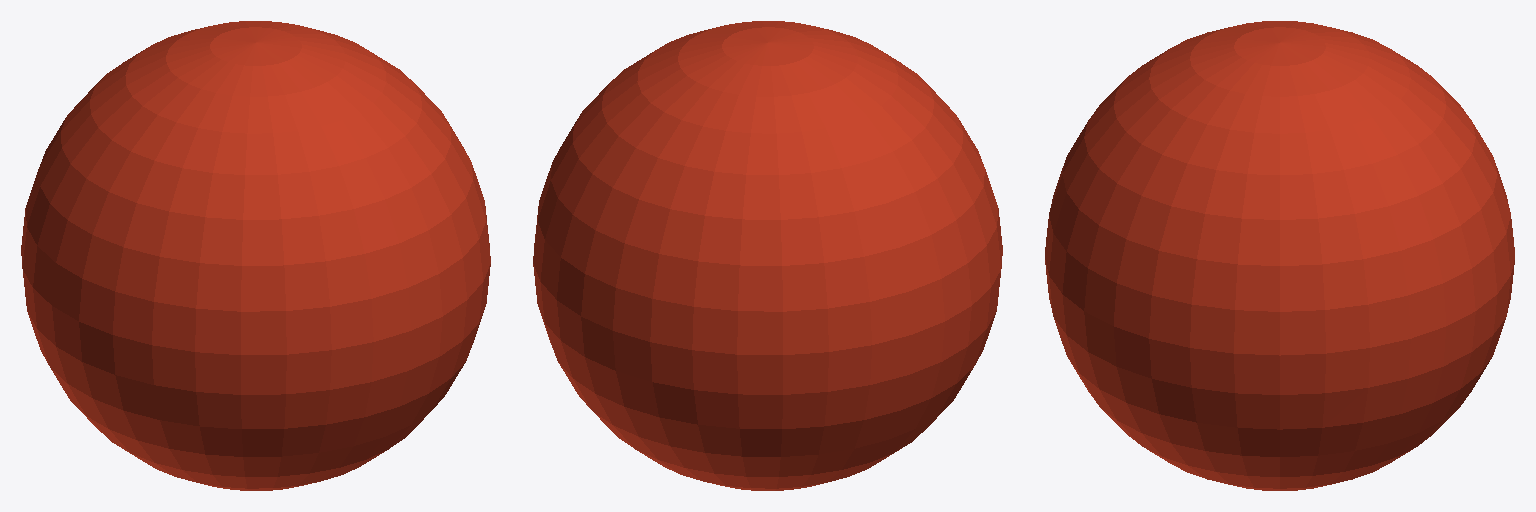
File: skydome.obj
3 views of the same model, side by side, from view 1: azimuth 30°, elevation 25°; view 2: azimuth 150°, elevation 25°; view 3: azimuth 270°, elevation 25° (orthographic).
Parts seen in each view (by area): view 1: Skydome; view 2: Skydome; view 3: Skydome.
Boxes of the visible parts, <box> form: Skydome: <box>21,21,490,490</box>; Skydome: <box>533,21,1002,490</box>; Skydome: <box>1045,21,1514,490</box>.
Bounding box in the file's own units: 2 × 2 × 2.